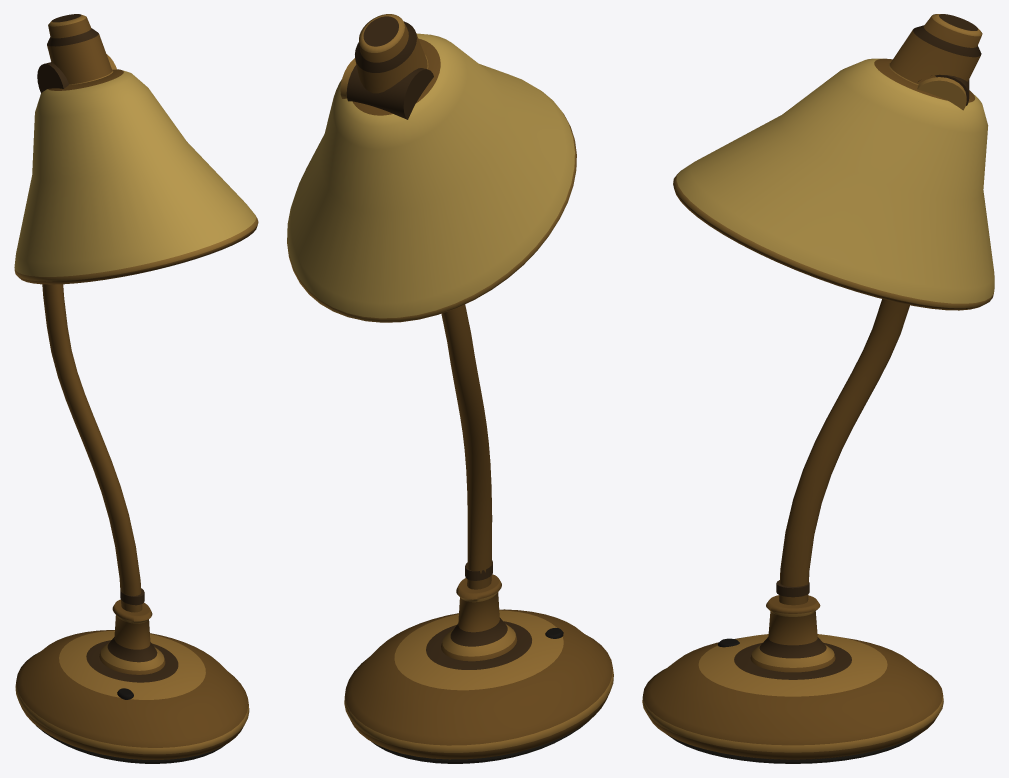
File: SM_StudyTaskLamp.fbx
3 renders of one model, left to right at view 1: azimuth 30°, elevation 25°; view 2: azimuth 150°, elevation 25°; view 3: azimuth 270°, elevation 25°, orthographic. The views are drawn at different scales.
Parts seen in each view (by area): view 1: SM_StudyTaskLamp; view 2: SM_StudyTaskLamp; view 3: SM_StudyTaskLamp.
Boxes of the visible parts, x1,y1,x2,y2 form: SM_StudyTaskLamp: [14, 14, 258, 763]; SM_StudyTaskLamp: [287, 14, 613, 763]; SM_StudyTaskLamp: [642, 14, 994, 763].
Size of the model in its own units: 0.1633 by 0.2088 by 0.463.
